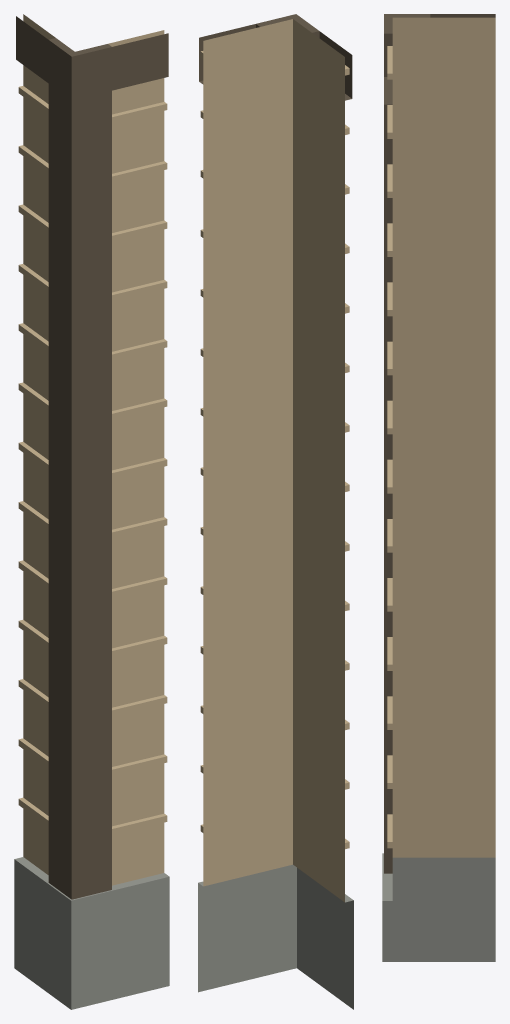
The model's file is base-c1_close.fbx.
3 renders of one model, left to right at view 1: azimuth 30°, elevation 25°; view 2: azimuth 210°, elevation 25°; view 3: azimuth 270°, elevation 25°, orthographic.
Parts seen in each view (by area): view 1: a2015/0/base-c1_close; view 2: a2015/0/base-c1_close; view 3: a2015/0/base-c1_close.
Boxes of the visible parts, left/top/right/bottom form: a2015/0/base-c1_close: left=14, top=14, right=169, bottom=1009; a2015/0/base-c1_close: left=198, top=14, right=353, bottom=1009; a2015/0/base-c1_close: left=382, top=14, right=495, bottom=961.
Bounding box in the file's own units: 0.33 × 3.05 × 0.33.
